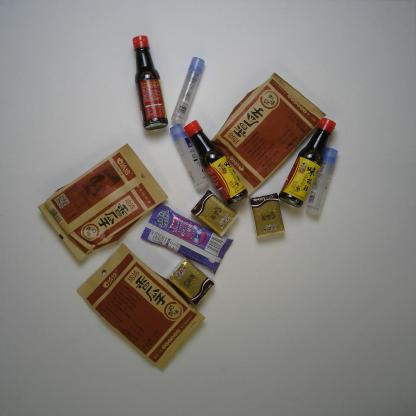Candy: (140, 202, 234, 274)
Dried Food: (77, 241, 206, 369), (37, 144, 169, 262), (210, 71, 326, 198)
Seasoner: (183, 119, 249, 207), (277, 117, 337, 208), (130, 35, 170, 132)
Stationery: (169, 124, 209, 190), (171, 56, 206, 125), (306, 146, 338, 215)
Tissue: (190, 189, 239, 238), (167, 256, 215, 306), (249, 192, 285, 238)
